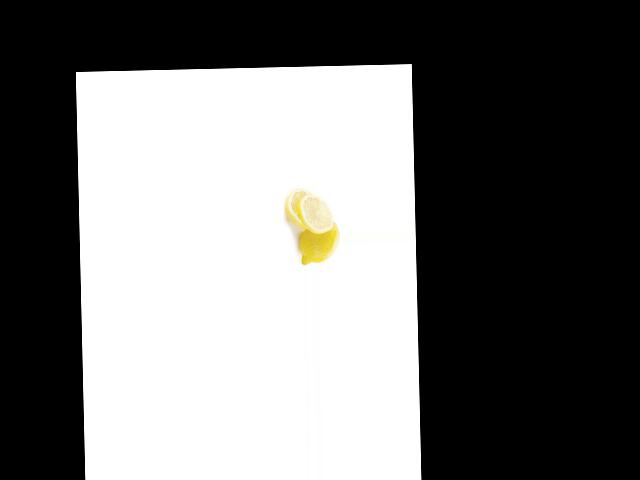lemon: (295, 218, 341, 270)
